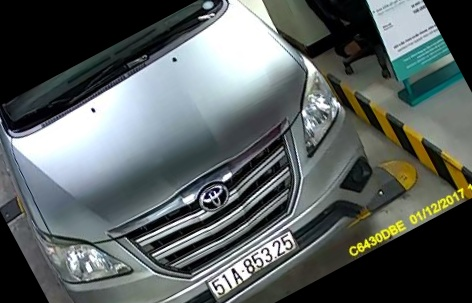plate: (204, 229, 301, 303)
